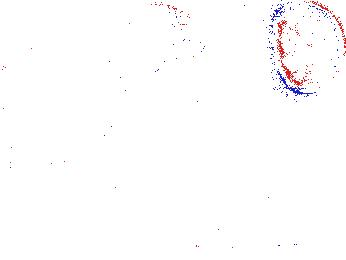moon jellyfish: (269, 1, 346, 94), (98, 3, 206, 68), (12, 1, 131, 42), (1, 4, 38, 98)
